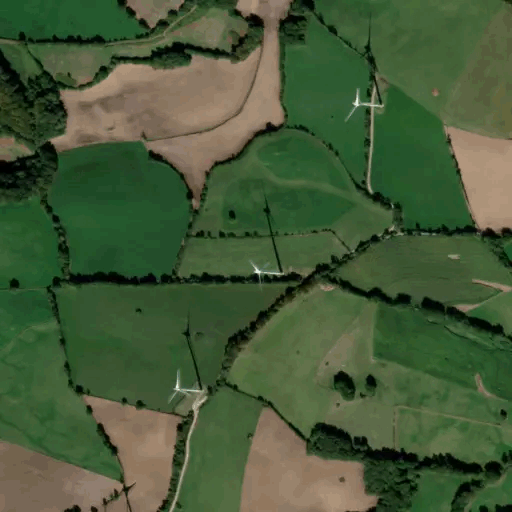wt: (340, 7, 388, 135), (161, 305, 205, 411), (246, 182, 288, 293)
